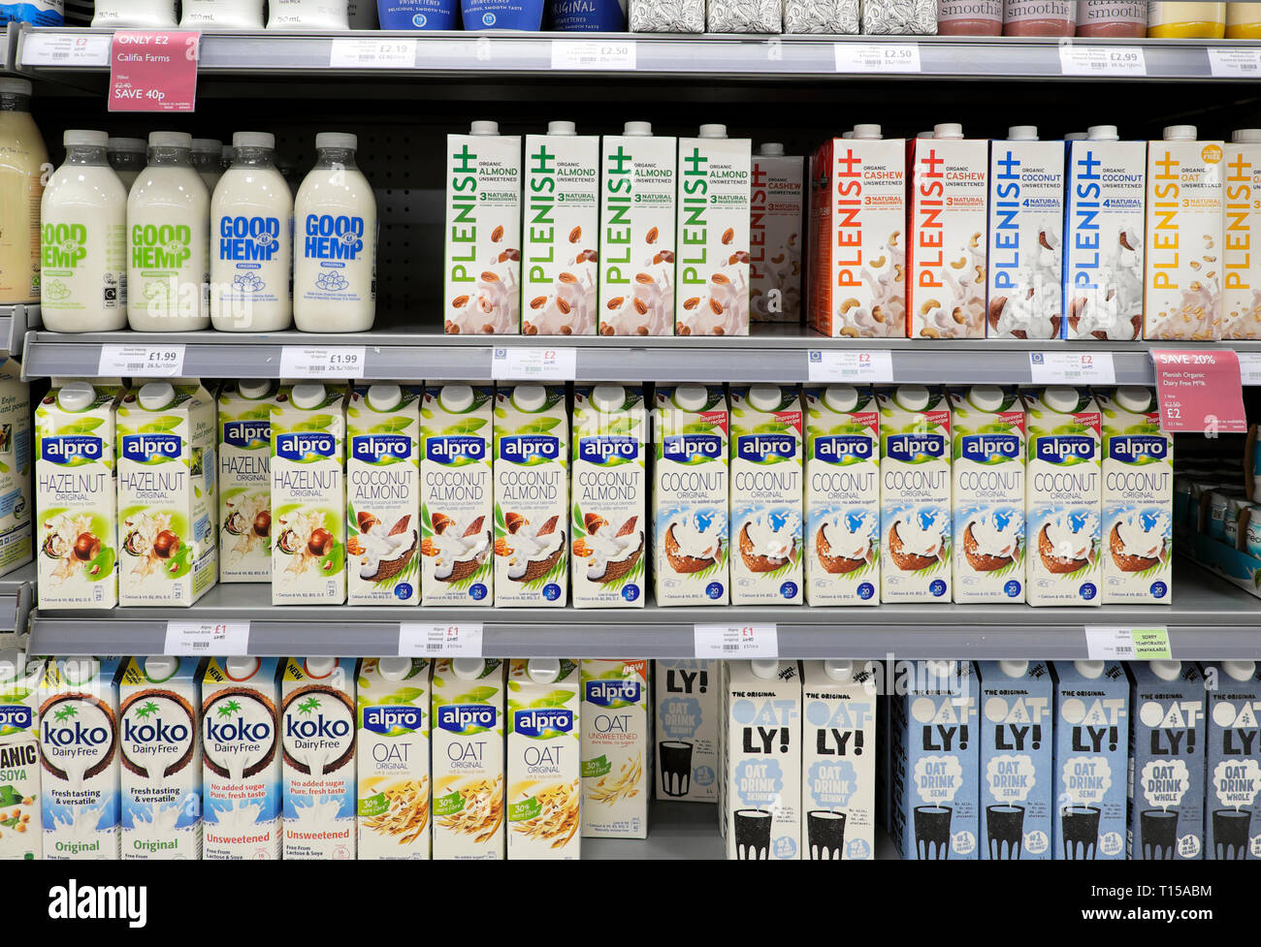milk: (118, 378, 210, 608), (297, 124, 374, 335), (879, 402, 956, 600), (832, 140, 905, 340), (446, 136, 517, 335)
